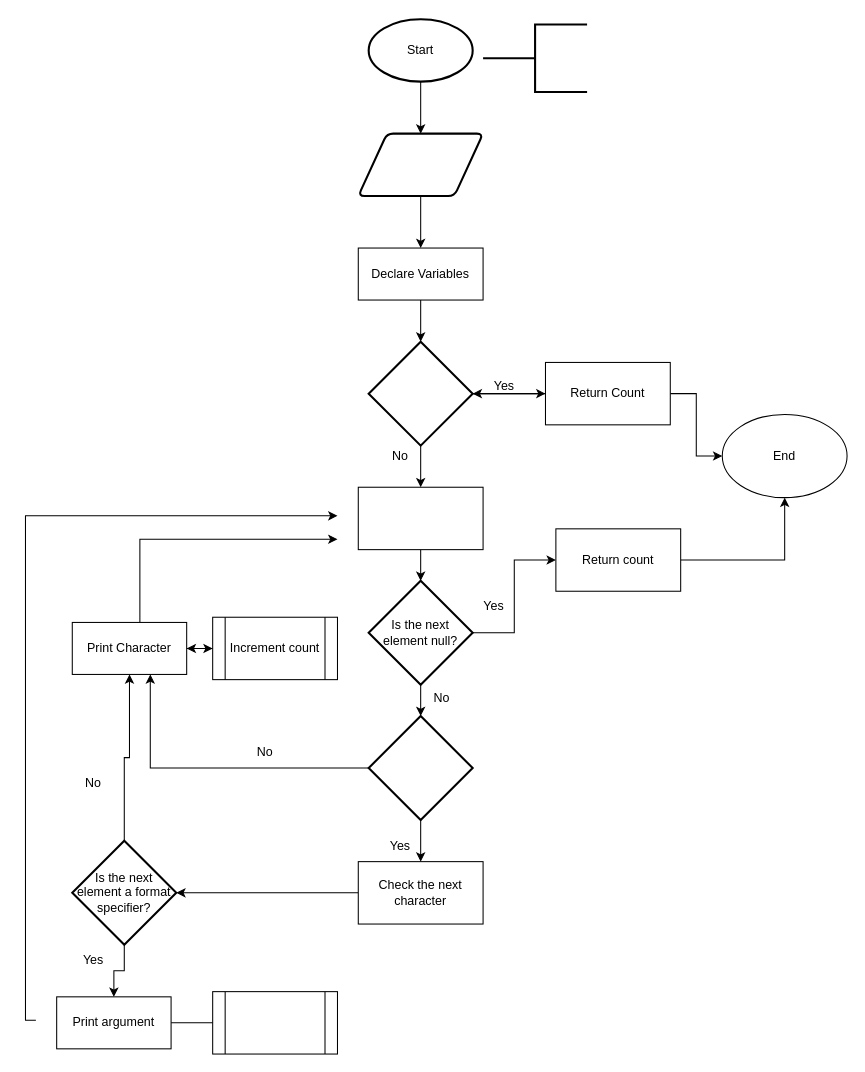
Some shapes in this 865 by 1072 pixel diagram are drawn without their labels. The centre of each missing label's shape, as x and y in pixels:
"Function int _printf(const char *format, ...)" belongs at point (535, 58).
"Increment count & handle edge cases" belongs at point (274, 1022).
"Input: Format" belongs at point (420, 164).
"Is input null?" belongs at point (420, 393).
"Is the next element '%'?" belongs at point (420, 767).
"Iterate through string" belongs at point (420, 518).
